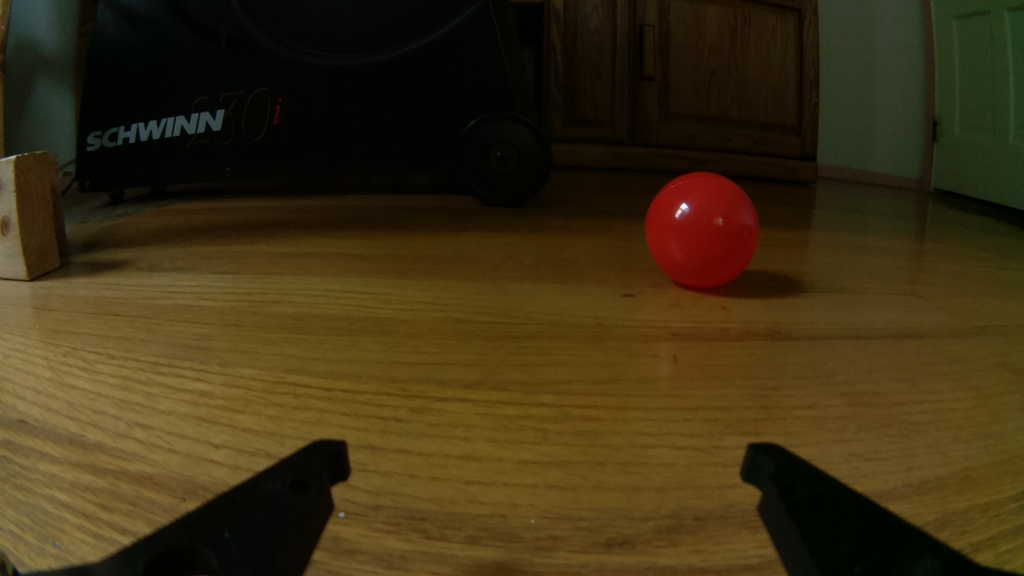ball: (641, 170, 760, 291)
